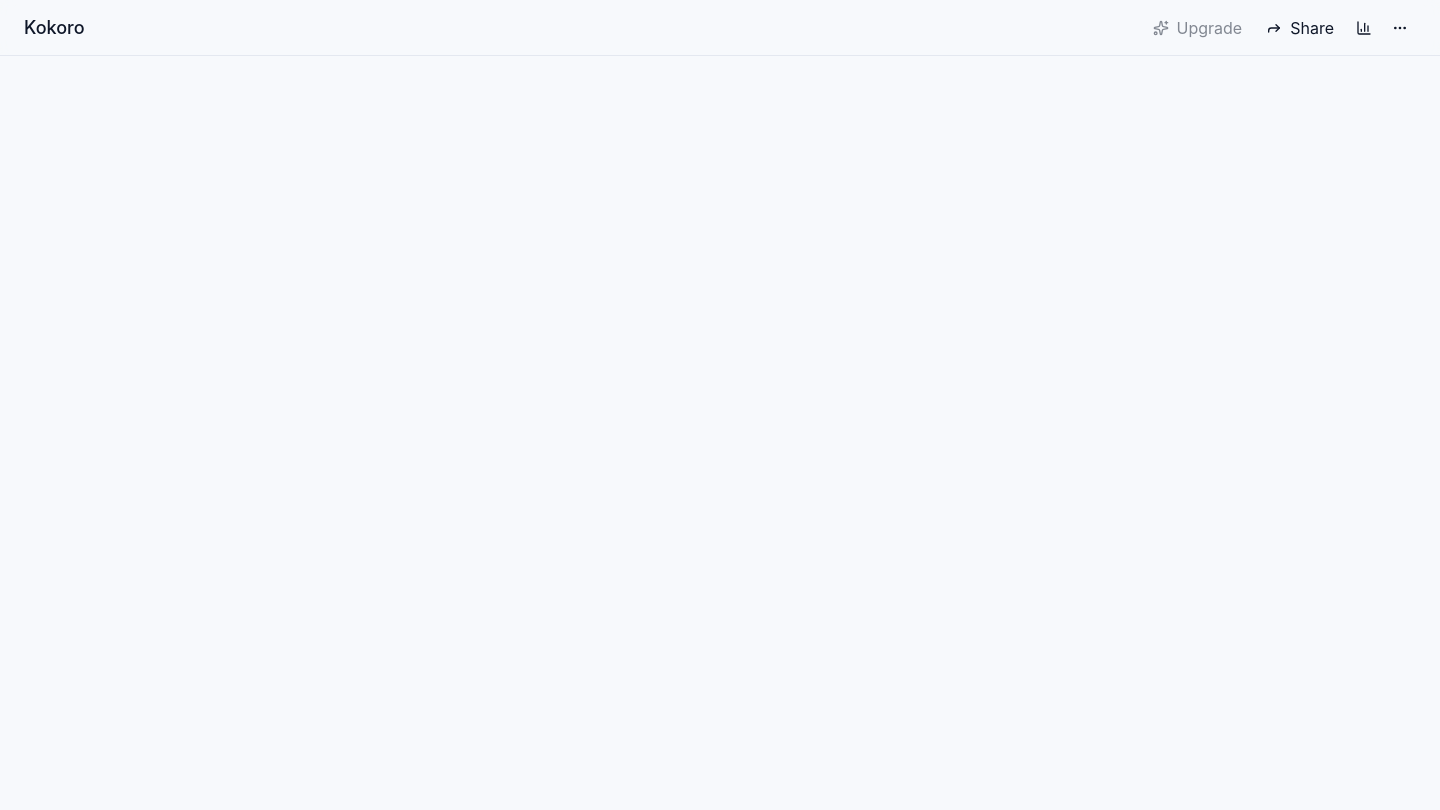
ShareButton › shows a recoverable state when project link copying is rejected
Click the button "Share". click: (1300, 28)
box: [1256,12,1344,44]
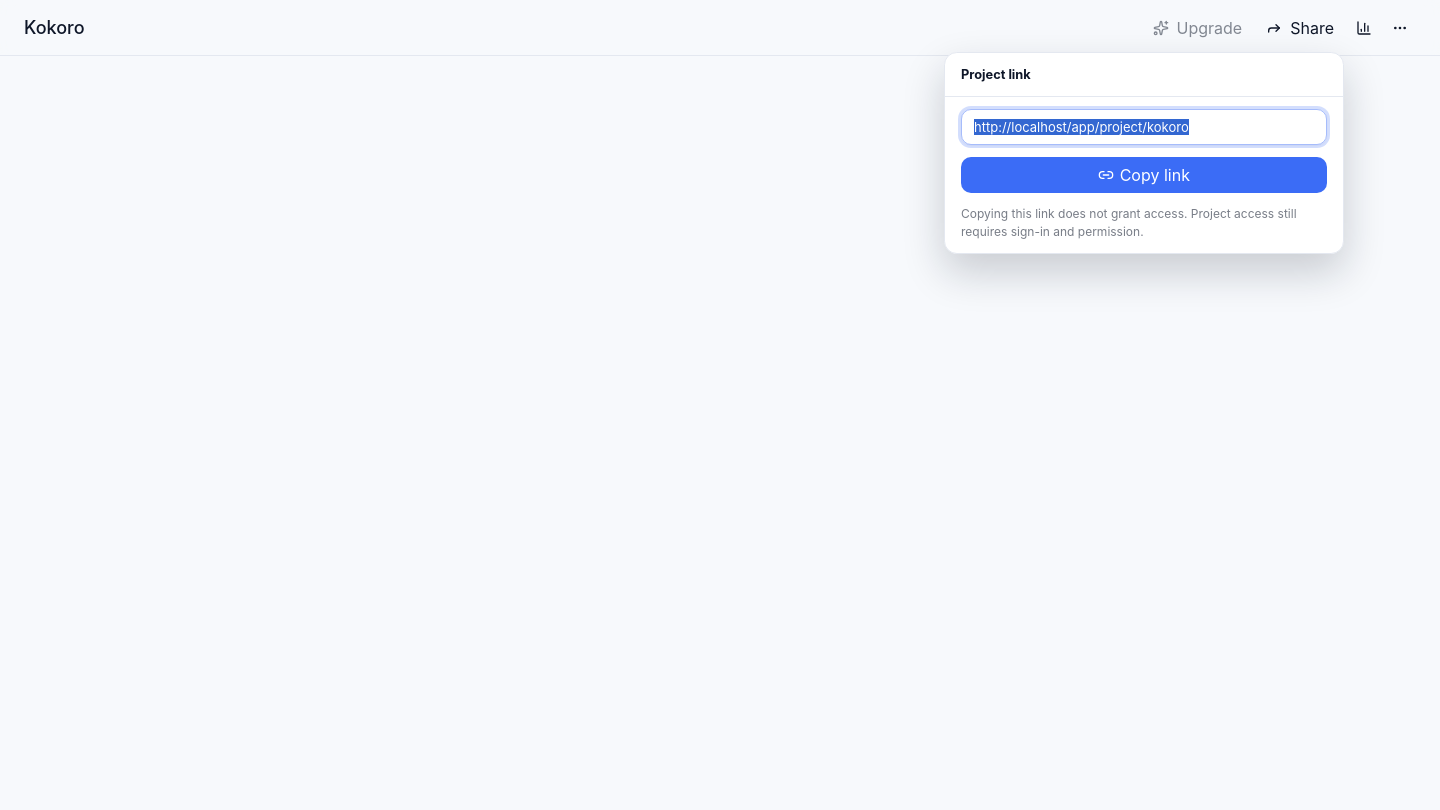
Click the button "Copy link". click: (1144, 175)
box: [961,157,1327,193]
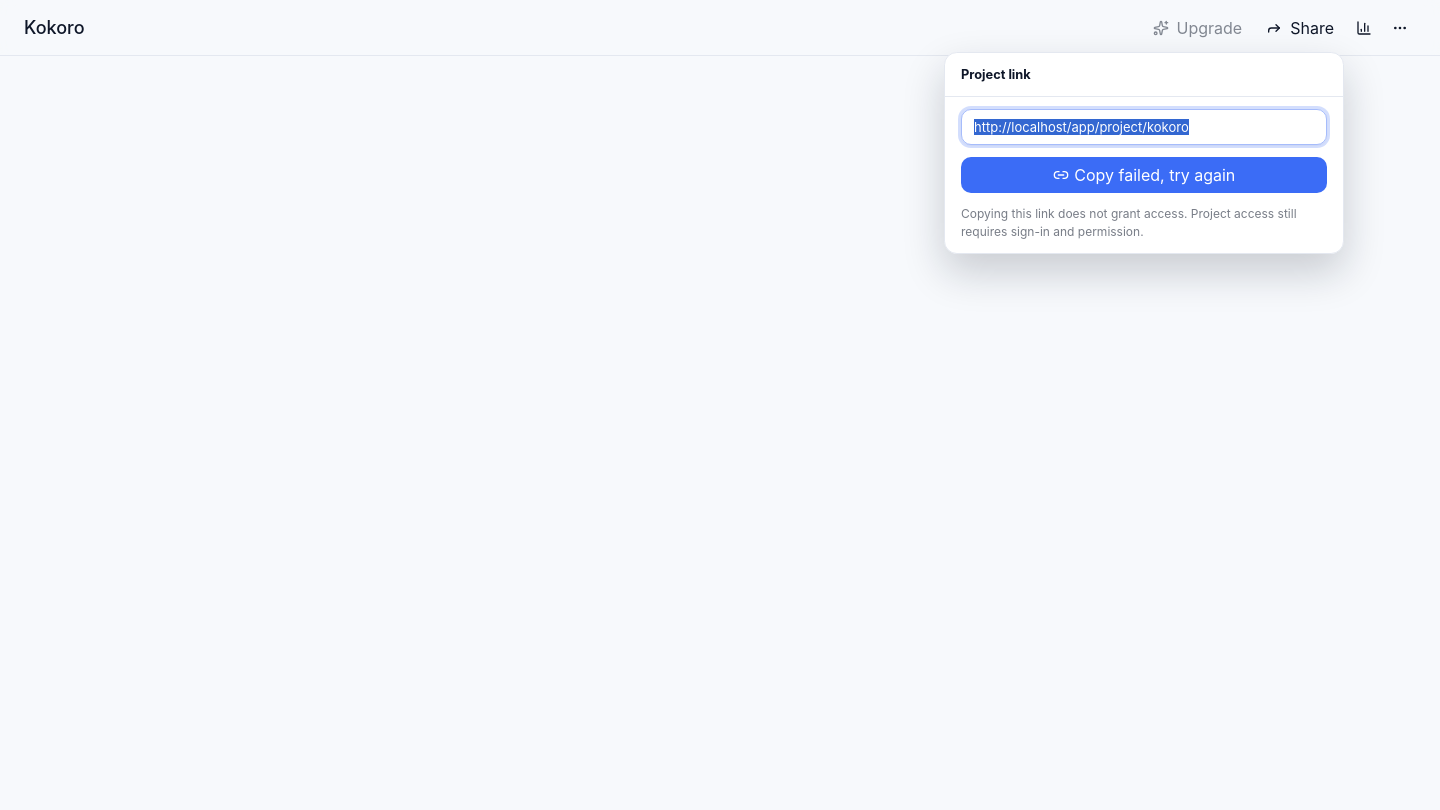
Expected: the button "Copy failed, try again" is shown, [961,157,1327,193]
